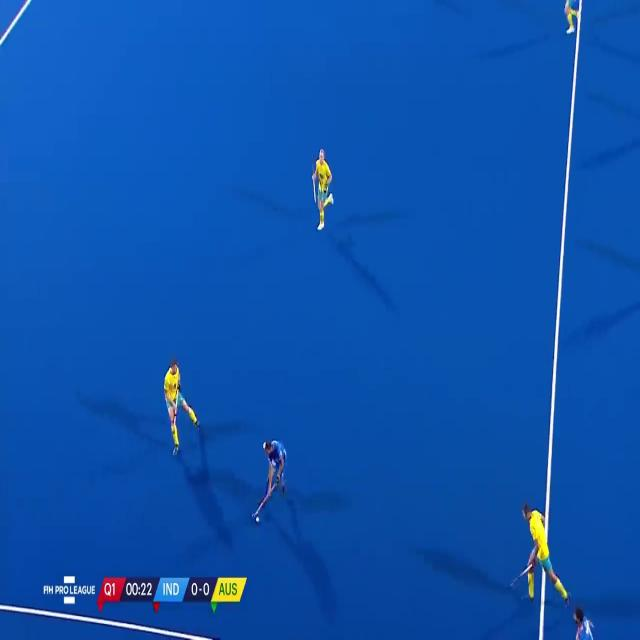ball: (246, 500, 264, 530)
